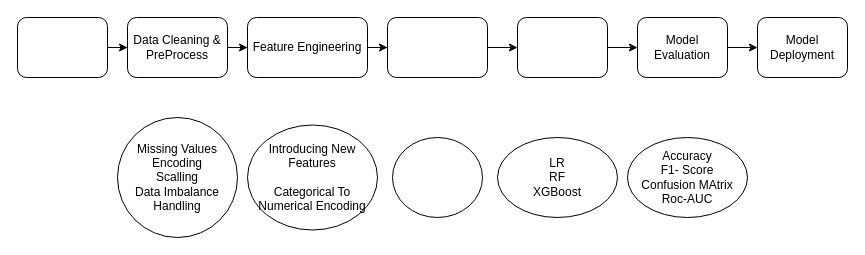
Image size: 865x255. Some labels were removed from this diagram. The box of each missing label's shape, as (x1, y1, x2, y2) in pixels:
80:20 or 70:30: (392, 136, 482, 218)
Data Collection: (16, 16, 108, 78)
Model Training: (516, 16, 608, 78)
Train-Test Spliting: (386, 16, 488, 78)
